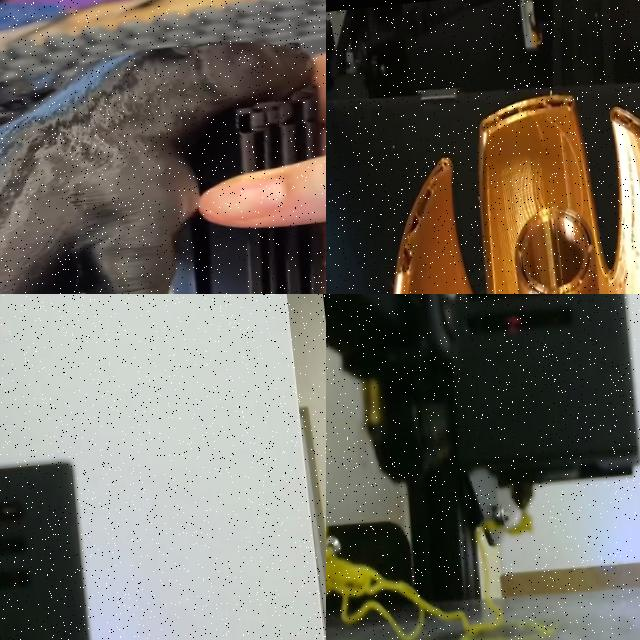spaghetti: (326, 526, 554, 640), (480, 509, 532, 535)
